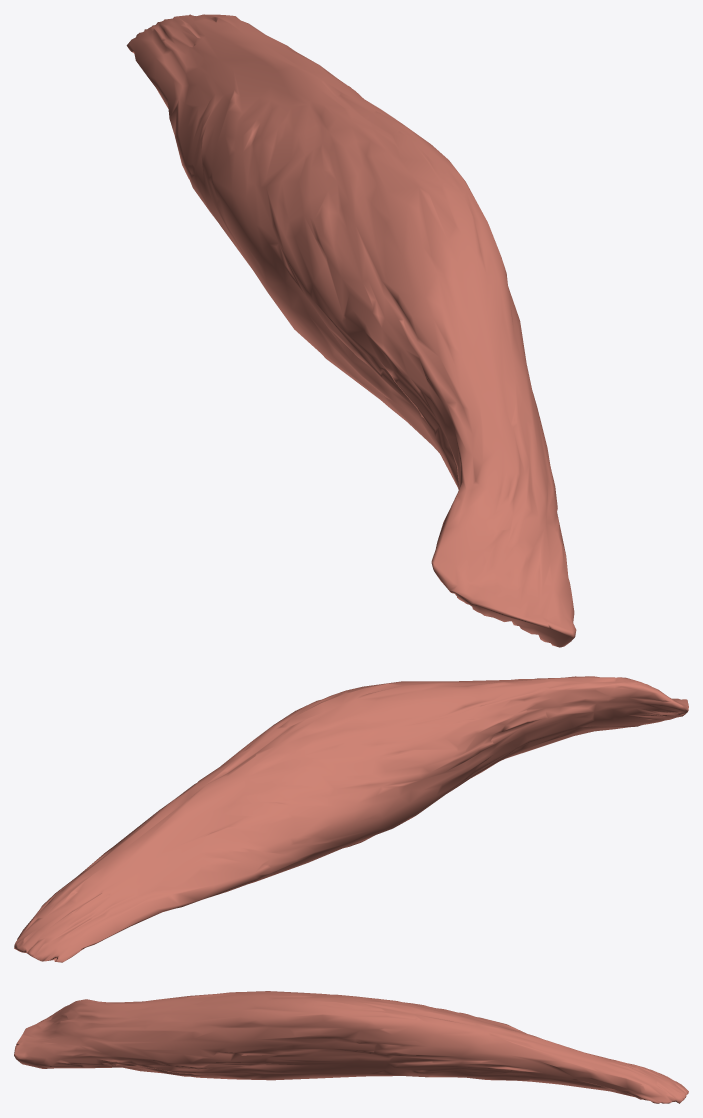
3 renders of one model, top to bottom at view 1: azimuth 30°, elevation 25°; view 2: azimuth 150°, elevation 25°; view 3: azimuth 270°, elevation 25°, orthographic. The views are drawn at different scales.
Parts seen in each view (by area): view 1: 左侧肱三头肌长头; view 2: 左侧肱三头肌长头; view 3: 左侧肱三头肌长头.
Boxes of the visible parts, x1,y1,x2,y2 form: 左侧肱三头肌长头: [126, 14, 576, 647]; 左侧肱三头肌长头: [14, 676, 688, 962]; 左侧肱三头肌长头: [14, 991, 688, 1103].
Bounding box in the file's own units: 0.1351 × 0.0698 × 0.4009.
